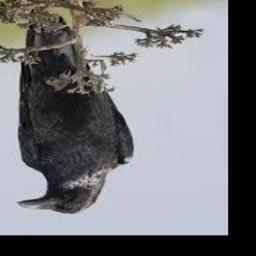Crow: (17, 6, 133, 214)
